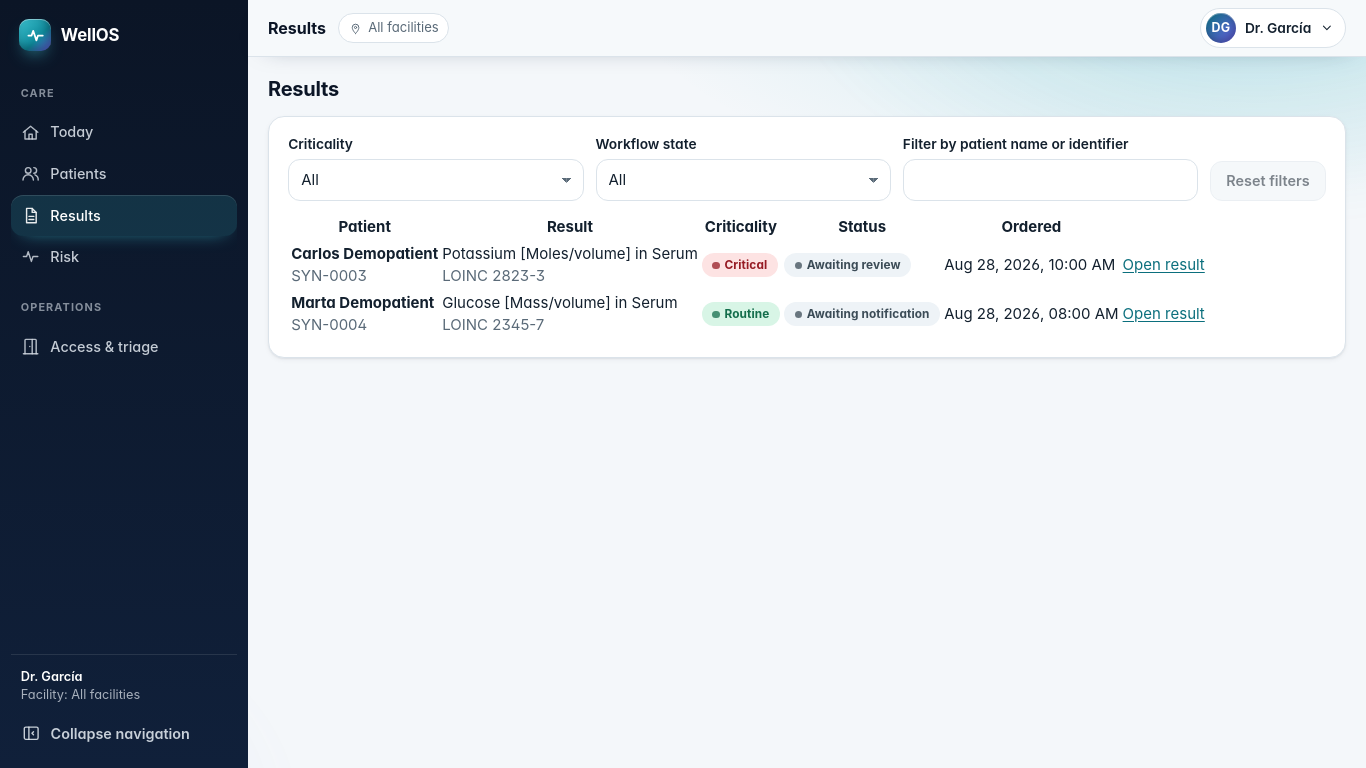
Test case: results worklist › filters to critical results only and resets filters
This screenshot has width=1366, height=768.
Select "Critical only" in the dropdown labelled "Criticality" at (436, 180), box [288,159,584,201]
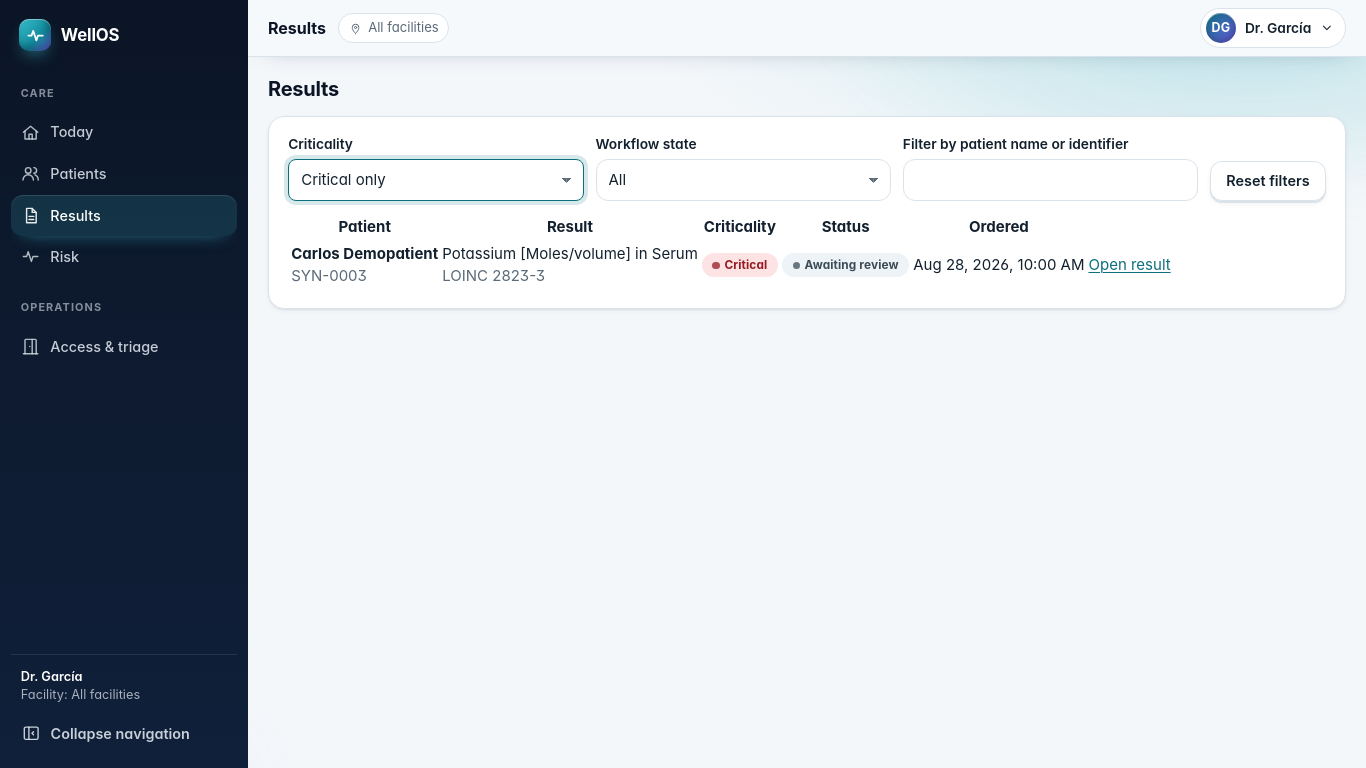
Expected: the text "Carlos Demopatient" is shown, [291,244,438,263]
Result: the text "Marta Demopatient" is not shown
Click the button "Reset filters" at (1268, 181), box [1210,161,1326,201]
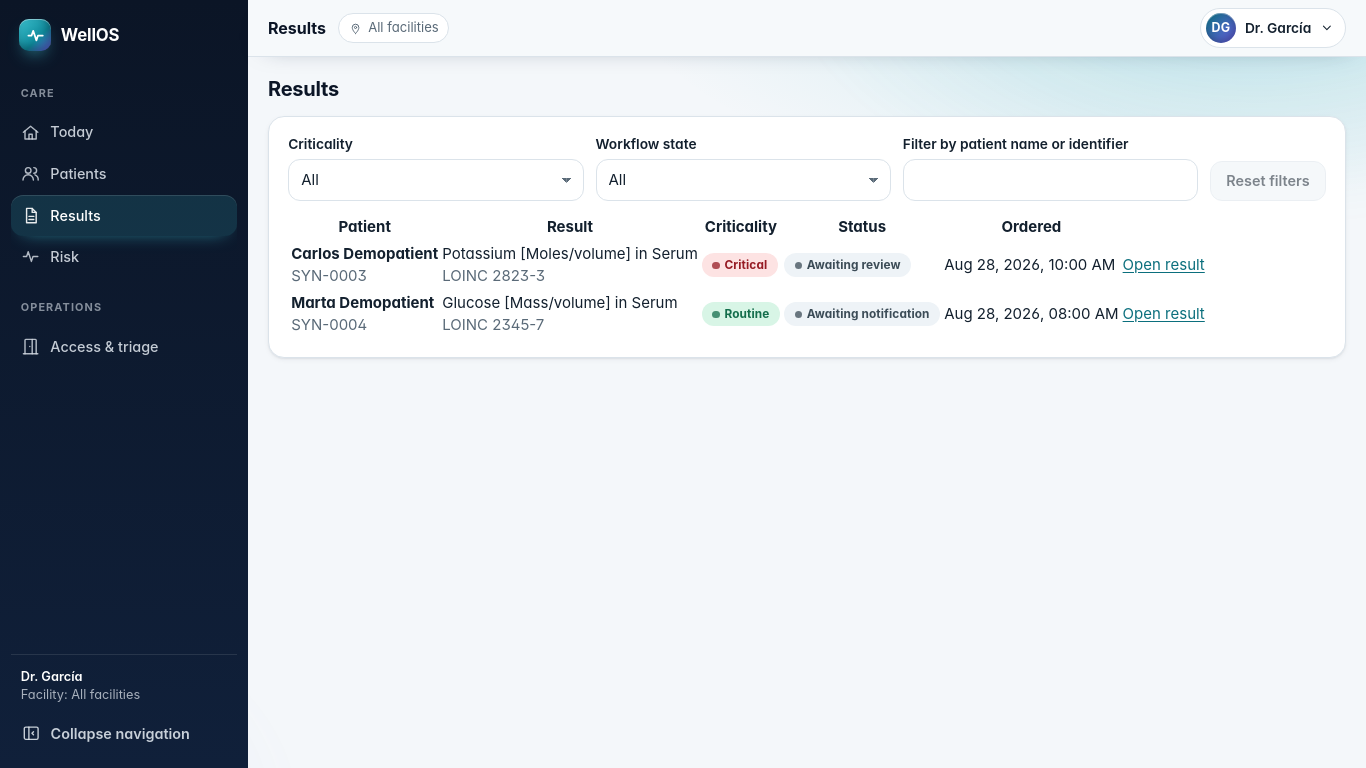
Result: the text "Marta Demopatient" is shown at [291,293,434,312]
